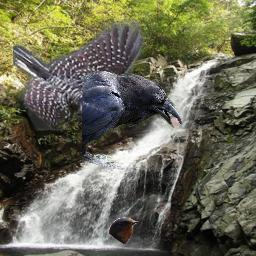Crow: (82, 70, 182, 169)
Swallow: (108, 217, 139, 244)
Woodpecker: (13, 19, 149, 133)
